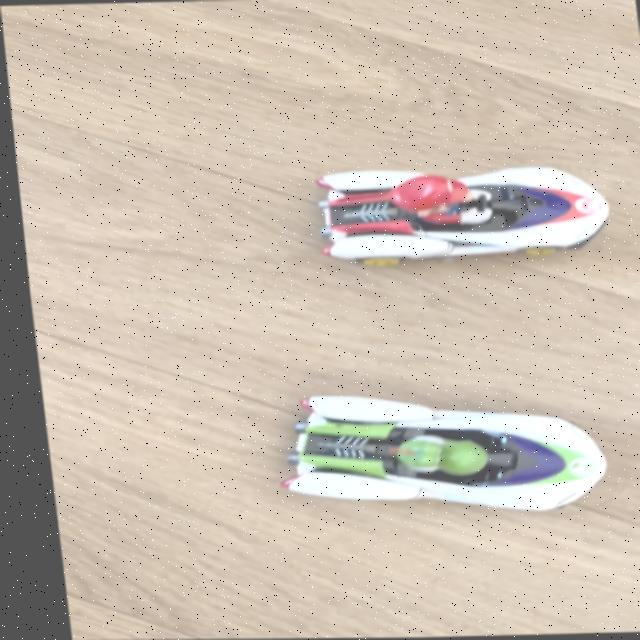mario: (259, 141, 640, 273)
yoshi: (232, 384, 640, 530)
